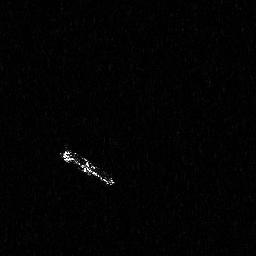ship: (56, 144, 116, 188)
